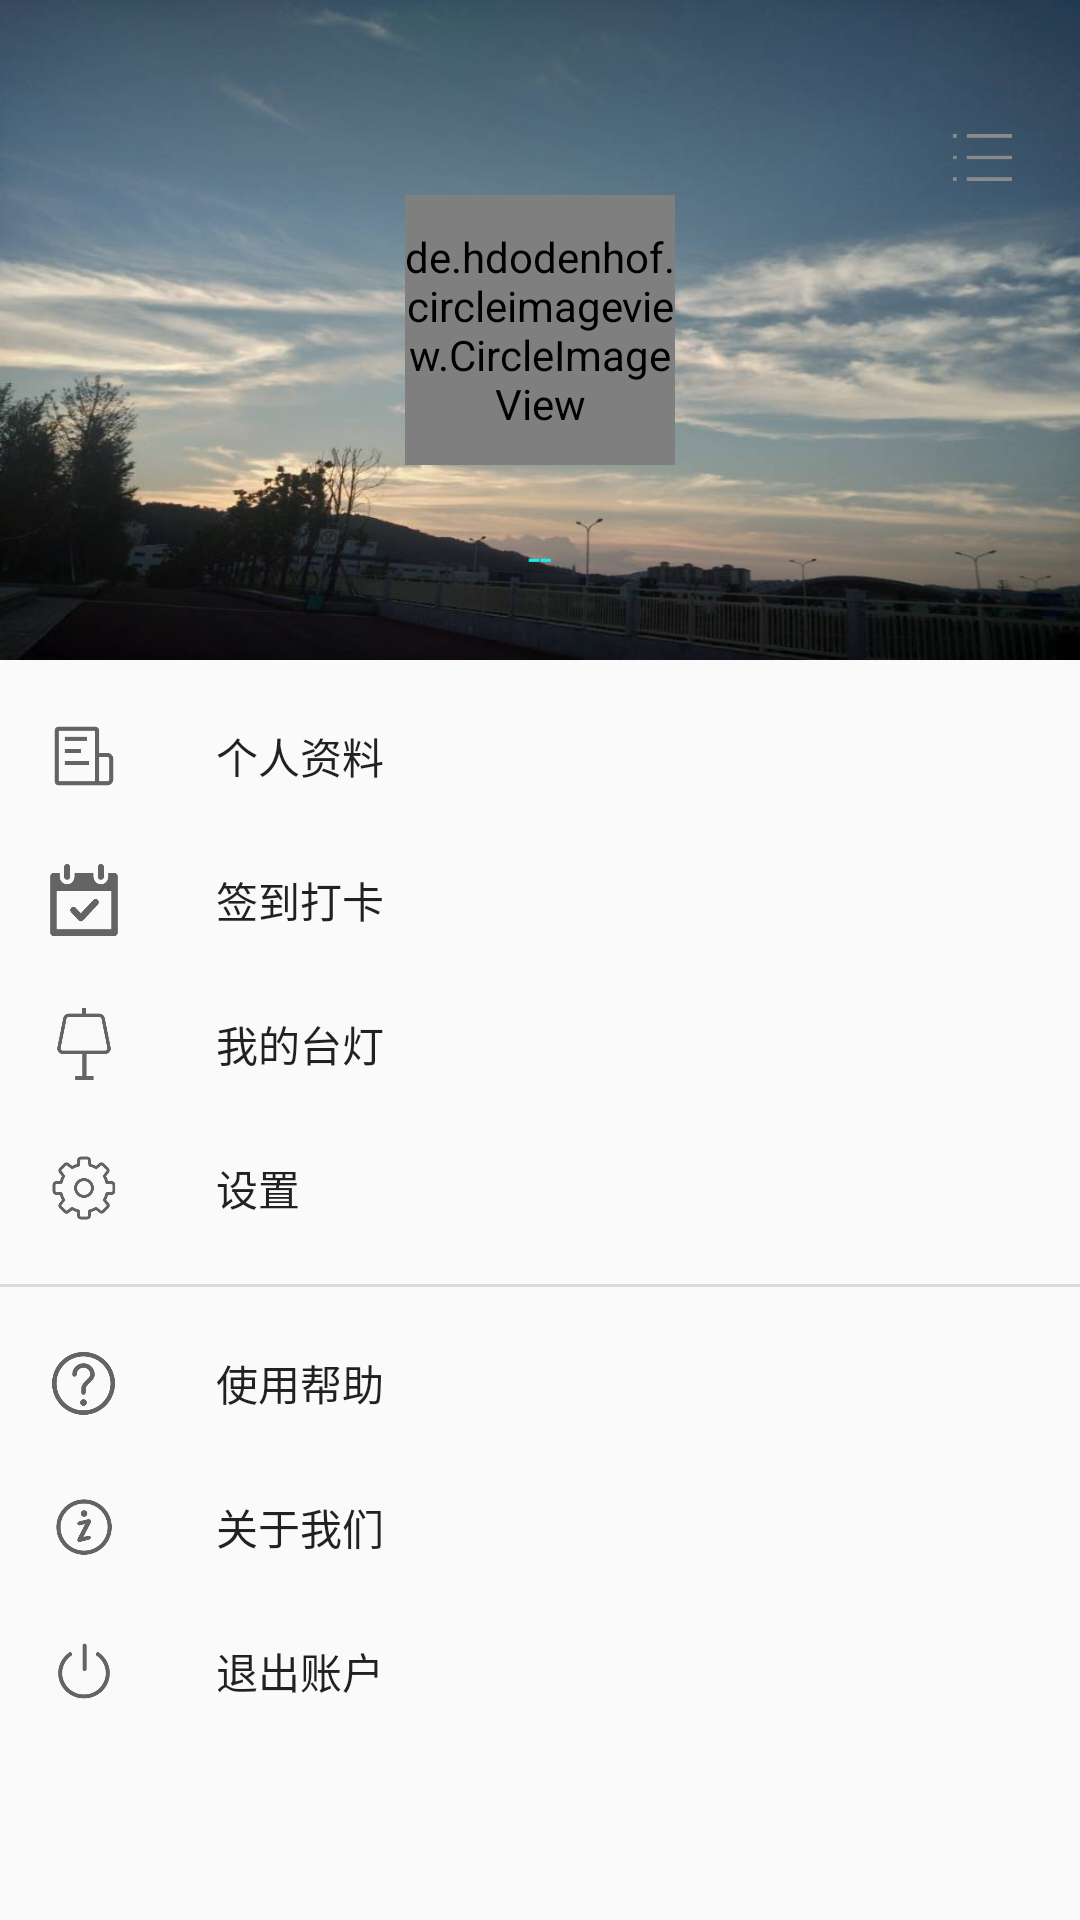

Icons on this 1080px×1920px Android screen, each with its box as (x1, y1, x2, y2):
options: (953, 134, 1012, 181)
